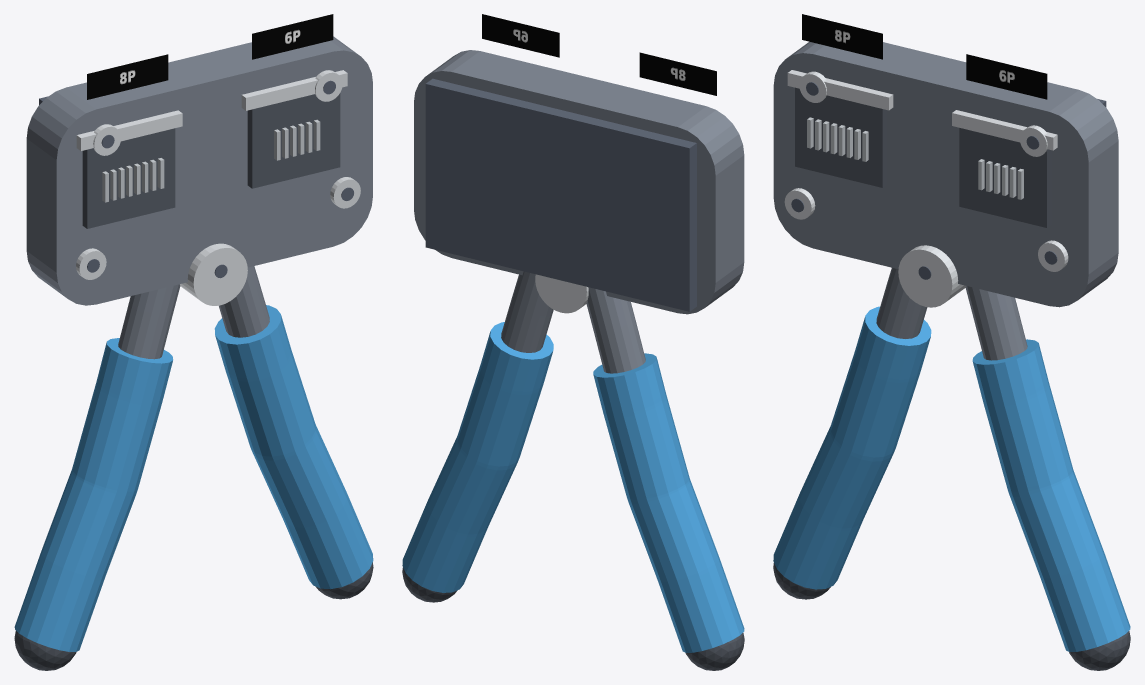
File: crimper.glb
3 renders of one model, left to right at view 1: azimuth 30°, elevation 25°; view 2: azimuth 150°, elevation 25°; view 3: azimuth 330°, elevation 25°, orthographic. The views are drawn at different scales.
Parts seen in each view (by area): view 1: 01_Badan_Rahang_Hadapan, 10_Getah_Pemegang_Biru_1, 10_Getah_Pemegang_Biru_2, 03_Ruang_Crimping_2_8P6P, 03_Ruang_Crimping_1_8P6P, 09_Batang_Pemegang_Keluli_1, 08_Paksi_Pivot, 14_Label_6P, 13_Label_8P, 09_Batang_Pemegang_Keluli_2, 04_Dinding_Penyokong_Port_2, 04_Dinding_Penyokong_Port_1 (+6 smaller); view 2: 02_Plat_Rahang_Belakang, 01_Badan_Rahang_Hadapan, 10_Getah_Pemegang_Biru_1, 10_Getah_Pemegang_Biru_2, 09_Batang_Pemegang_Keluli_1, 09_Batang_Pemegang_Keluli_2, 14_Label_6P, 13_Label_8P, 08_Paksi_Pivot, 12_Penutup_Pemegang_1, 12_Penutup_Pemegang_2; view 3: 01_Badan_Rahang_Hadapan, 10_Getah_Pemegang_Biru_2, 10_Getah_Pemegang_Biru_1, 03_Ruang_Crimping_2_8P6P, 03_Ruang_Crimping_1_8P6P, 09_Batang_Pemegang_Keluli_2, 08_Paksi_Pivot, 14_Label_6P, 13_Label_8P, 09_Batang_Pemegang_Keluli_1, 04_Dinding_Penyokong_Port_1, 04_Dinding_Penyokong_Port_2 (+6 smaller).
Boxes of the visible parts, <box> form: 01_Badan_Rahang_Hadapan: <box>26,36,372,305</box>; 10_Getah_Pemegang_Biru_1: <box>14,338,173,651</box>; 10_Getah_Pemegang_Biru_2: <box>214,305,373,589</box>; 03_Ruang_Crimping_2_8P6P: <box>247,93,340,188</box>; 03_Ruang_Crimping_1_8P6P: <box>82,128,175,228</box>; 09_Batang_Pemegang_Keluli_1: <box>118,284,180,359</box>; 08_Paksi_Pivot: <box>180,243,247,305</box>; 14_Label_6P: <box>252,14,333,59</box>; 13_Label_8P: <box>87,54,168,99</box>; 09_Batang_Pemegang_Keluli_2: <box>219,266,269,337</box>; 04_Dinding_Penyokong_Port_2: <box>241,70,347,110</box>; 04_Dinding_Penyokong_Port_1: <box>76,110,182,150</box>; 02_Plat_Rahang_Belakang: <box>425,78,696,311</box>; 01_Badan_Rahang_Hadapan: <box>414,50,744,314</box>; 10_Getah_Pemegang_Biru_1: <box>593,353,744,652</box>; 10_Getah_Pemegang_Biru_2: <box>402,322,553,592</box>; 09_Batang_Pemegang_Keluli_1: <box>586,287,645,373</box>; 09_Batang_Pemegang_Keluli_2: <box>501,271,553,352</box>; 14_Label_6P: <box>482,14,559,57</box>; 13_Label_8P: <box>639,52,716,95</box>; 08_Paksi_Pivot: <box>535,274,588,313</box>; 12_Penutup_Pemegang_1: <box>685,633,744,670</box>; 12_Penutup_Pemegang_2: <box>402,568,457,602</box>; 01_Badan_Rahang_Hadapan: <box>773,41,1118,307</box>; 10_Getah_Pemegang_Biru_2: <box>972,339,1130,651</box>; 10_Getah_Pemegang_Biru_1: <box>773,306,931,589</box>; 03_Ruang_Crimping_2_8P6P: <box>959,128,1051,227</box>; 03_Ruang_Crimping_1_8P6P: <box>795,87,887,187</box>; 09_Batang_Pemegang_Keluli_2: <box>965,286,1027,360</box>; 08_Paksi_Pivot: <box>898,245,965,307</box>; 14_Label_6P: <box>966,54,1047,99</box>; 13_Label_8P: <box>802,14,882,59</box>; 09_Batang_Pemegang_Keluli_1: <box>876,268,927,338</box>; 04_Dinding_Penyokong_Port_1: <box>787,70,893,110</box>; 04_Dinding_Penyokong_Port_2: <box>952,110,1057,150</box>.
Bounding box in the file's own units: 3.1 × 5.12 × 0.696.
8 materials, 2 textured.
